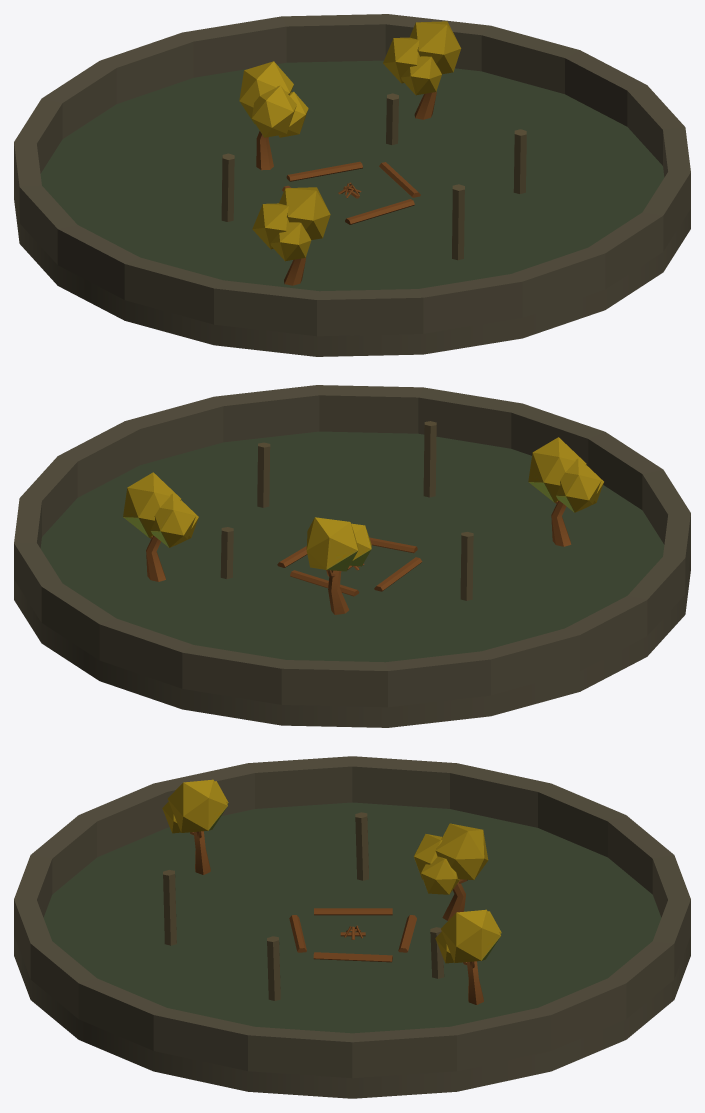
Rendered from escenario2.fbx.
The picture shows the model from 3 angles, top to bottom: view 1: azimuth 30°, elevation 25°; view 2: azimuth 150°, elevation 25°; view 3: azimuth 270°, elevation 25°; orthographic projection.
Visible parts, largest first — view 1: Tree_31; view 2: Tree_31; view 3: Tree_31.
Boxes of the visible parts, x1,y1,x2,y2 form: Tree_31: (14,14,690,356); Tree_31: (14,385,690,727); Tree_31: (14,756,690,1098).
Bounding box in the file's own units: 1977 × 369 × 1977.
